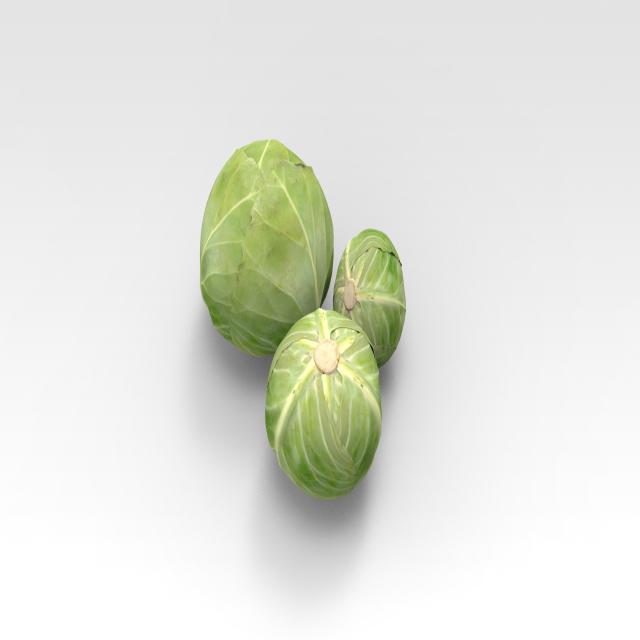cabbage: (196, 134, 336, 372), (261, 306, 387, 504), (332, 225, 412, 366)
